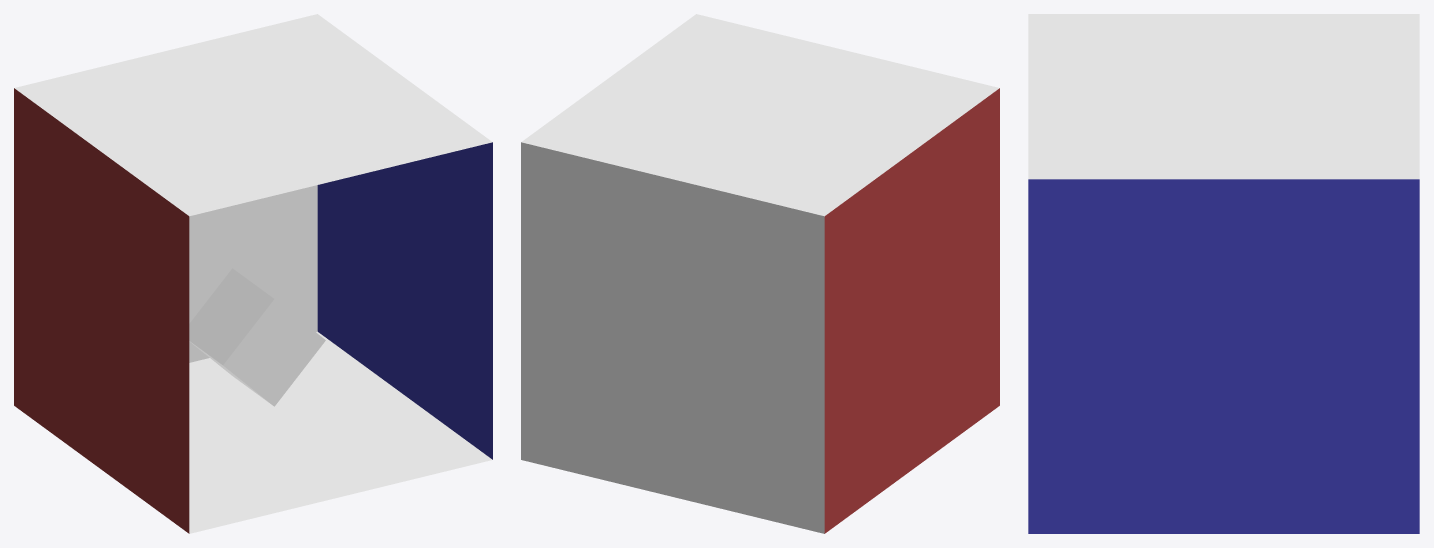
File: cude_test.dae
The picture shows the model from 3 angles, left to right: view 1: azimuth 30°, elevation 25°; view 2: azimuth 150°, elevation 25°; view 3: azimuth 270°, elevation 25°; orthographic projection. The views are drawn at different scales.
Visible parts, largest first — view 1: Square-S3D-13, Square-S3D-15, Square-S3D-14, Square-S3D-17, Square-S3D-16, Cube-S3D-20-FLIPPED; view 2: Square-S3D-16, Square-S3D-13, Square-S3D-15; view 3: Square-S3D-14, Square-S3D-15.
Part boxes in pixels (box(x1,y1,x2,y2)): Square-S3D-13: box(14, 88, 189, 533); Square-S3D-15: box(14, 14, 492, 216); Square-S3D-14: box(317, 142, 492, 459); Square-S3D-17: box(189, 331, 492, 533); Square-S3D-16: box(189, 185, 317, 362); Cube-S3D-20-FLIPPED: box(189, 268, 325, 406); Square-S3D-16: box(521, 142, 824, 533); Square-S3D-13: box(824, 88, 999, 533); Square-S3D-15: box(521, 14, 999, 216); Square-S3D-14: box(1028, 179, 1419, 533); Square-S3D-15: box(1028, 14, 1419, 179).
Bounding box in the file's own units: 1 × 1 × 1.
